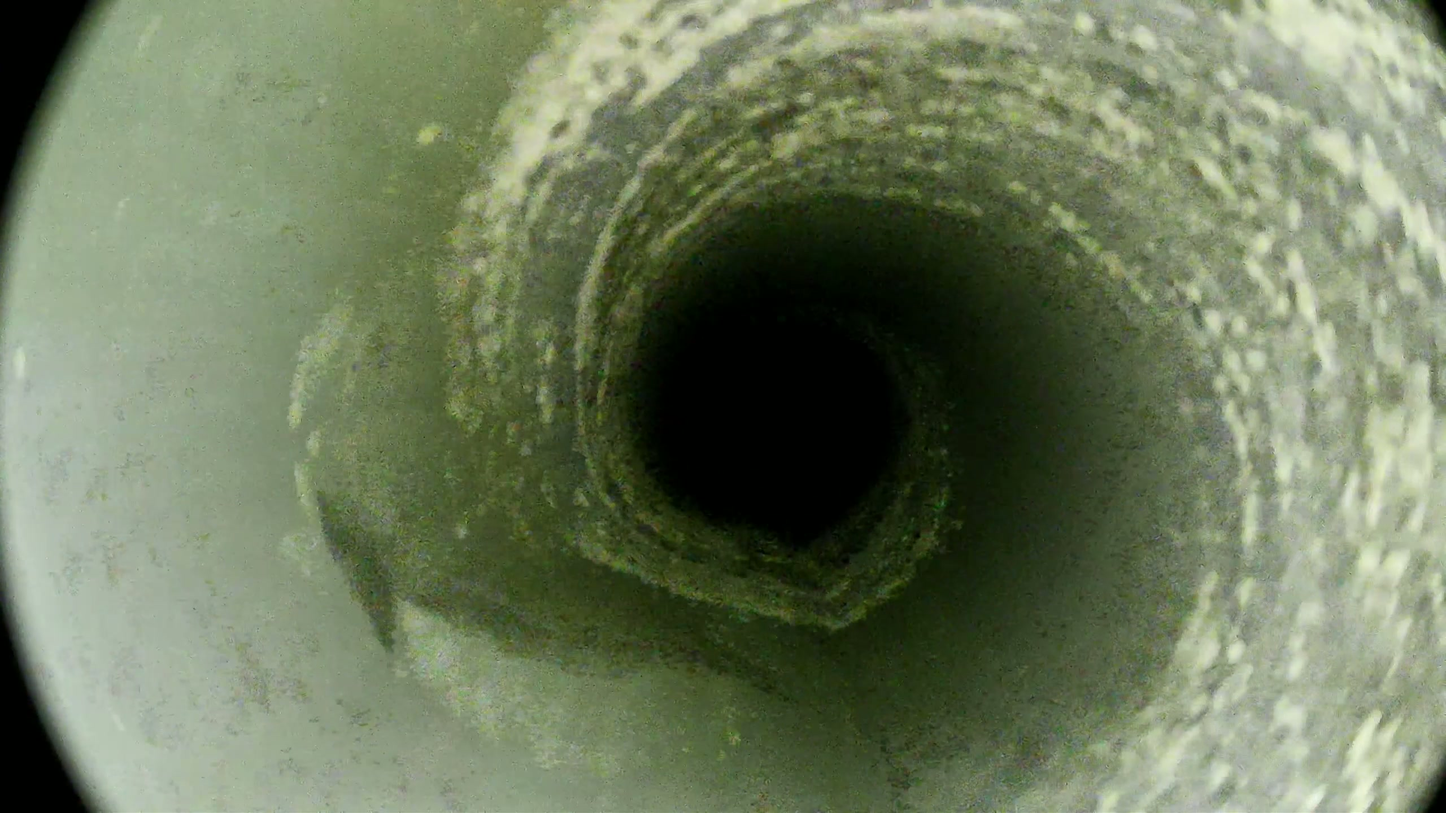hole: (668, 318, 890, 528)
